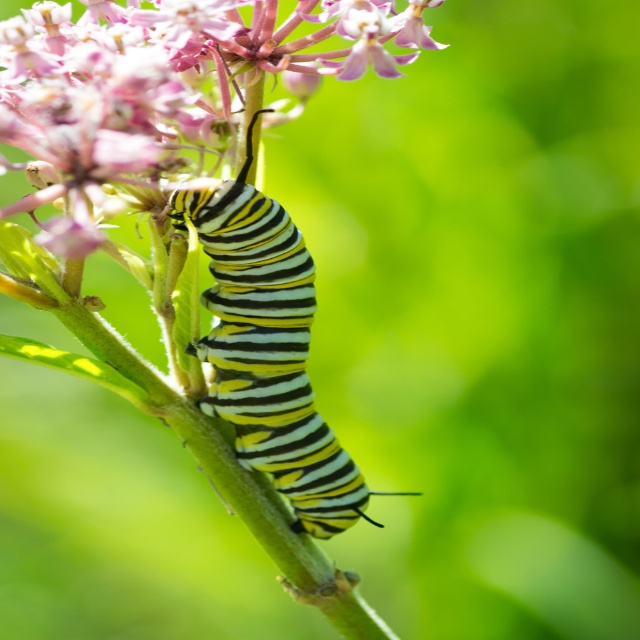Caterpillar: (155, 107, 424, 542)
